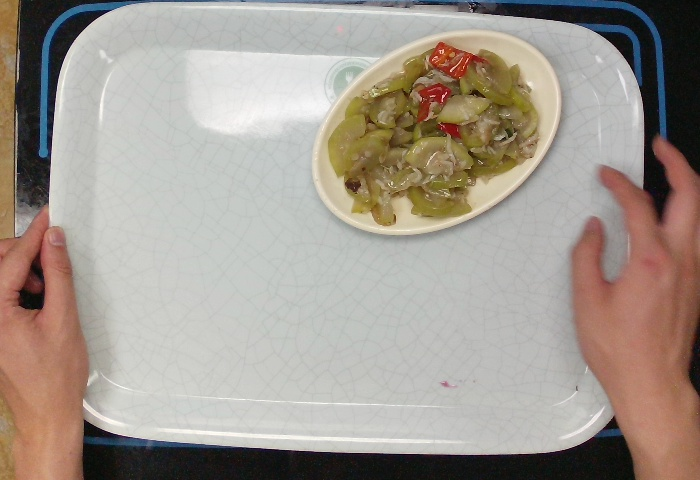JYsf-Tuo_Yuan_Wan: (308, 26, 562, 237)
